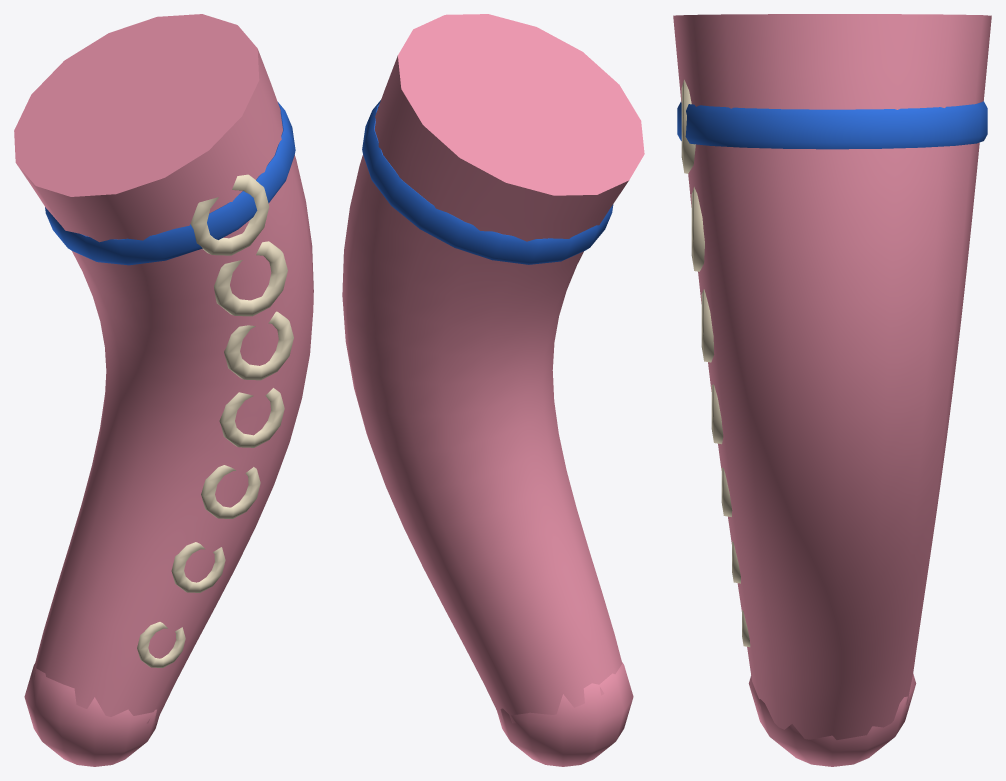
The model's file is Kit_Limb_Tentacle_L.glb.
3 renders of one model, left to right at view 1: azimuth 30°, elevation 25°; view 2: azimuth 150°, elevation 25°; view 3: azimuth 270°, elevation 25°, orthographic. The views are drawn at different scales.
Visible parts, largest first — view 1: Kit_Limb_Tentacle_L; view 2: Kit_Limb_Tentacle_L; view 3: Kit_Limb_Tentacle_L.
Boxes of the visible parts, box(x1,y1,x2,y2) form: Kit_Limb_Tentacle_L: box(14, 14, 313, 766); Kit_Limb_Tentacle_L: box(342, 14, 644, 766); Kit_Limb_Tentacle_L: box(673, 14, 991, 766).
Bounding box in the file's own units: 0.1886 × 0.4675 × 0.1626.
